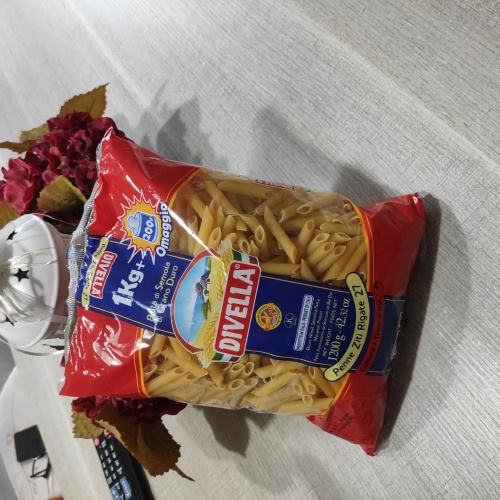pasta: (97, 160, 397, 445)
